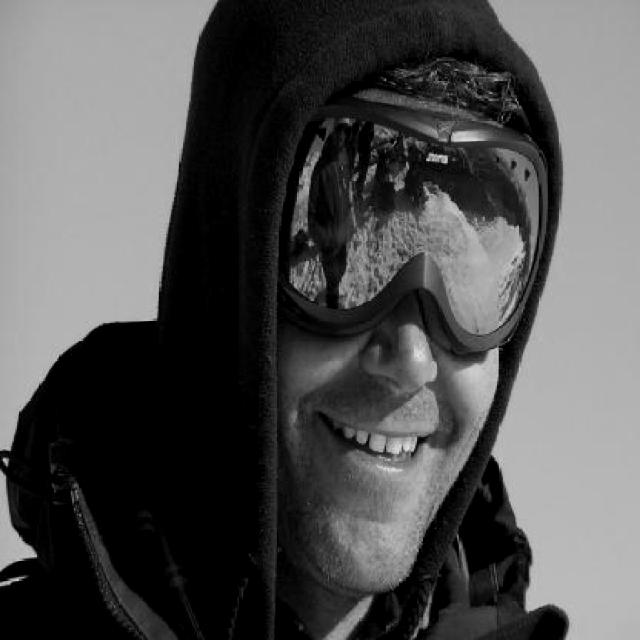face_nomask: (274, 110, 561, 493)
glasses: (265, 71, 558, 335)
